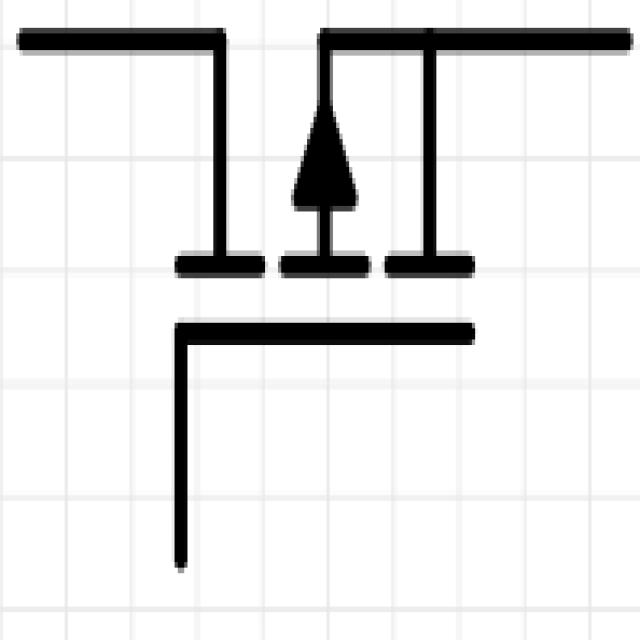pmos: (22, 11, 640, 601)
